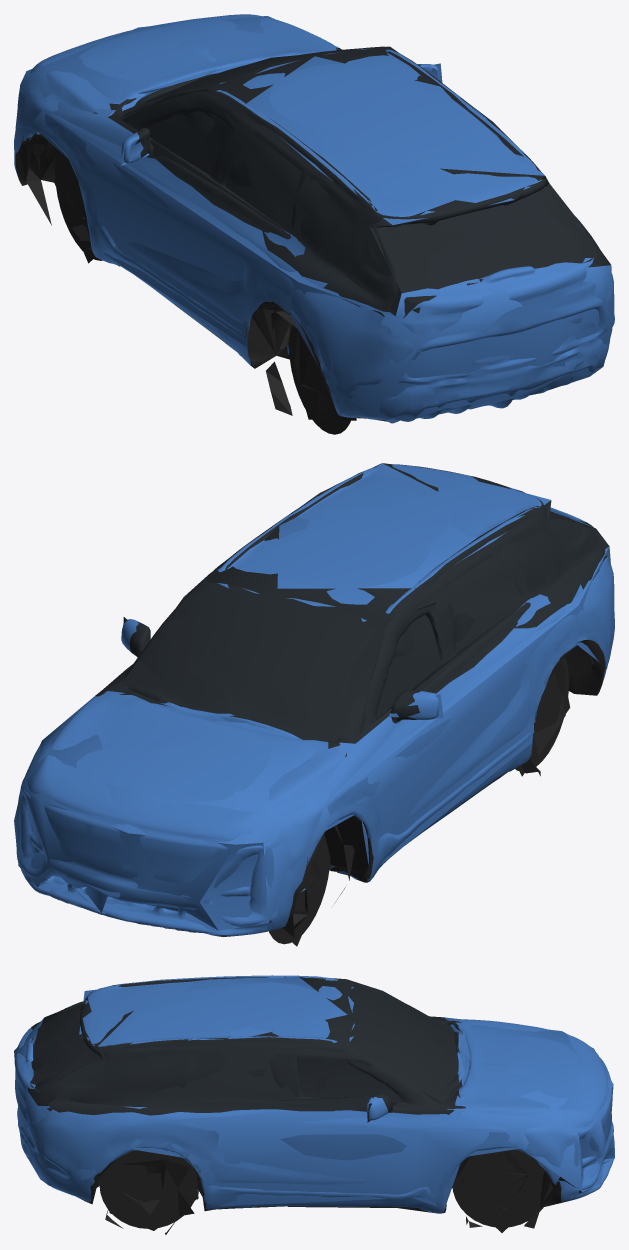
File: cadillac-lyriq.glb
3 views of the same model, one above another, from view 1: azimuth 30°, elevation 25°; view 2: azimuth 150°, elevation 25°; view 3: azimuth 270°, elevation 25° (orthographic). The views are drawn at different scales.
Visible parts, largest first — view 1: body, far; view 2: body, far; view 3: body, far.
Boxes of the visible parts, x1,y1,x2,y2 form: body: (14, 14, 614, 434); far: (15, 16, 612, 421); body: (16, 464, 614, 944); far: (14, 463, 614, 946); body: (14, 975, 614, 1234); far: (14, 975, 614, 1232).
Size of the model in its own units: 2.32 by 1.76 by 5.02.
